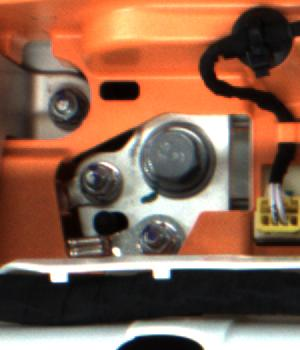nut_b: (137, 120, 216, 191)
screw_s: (46, 81, 84, 130), (138, 216, 174, 256), (78, 163, 114, 201)
